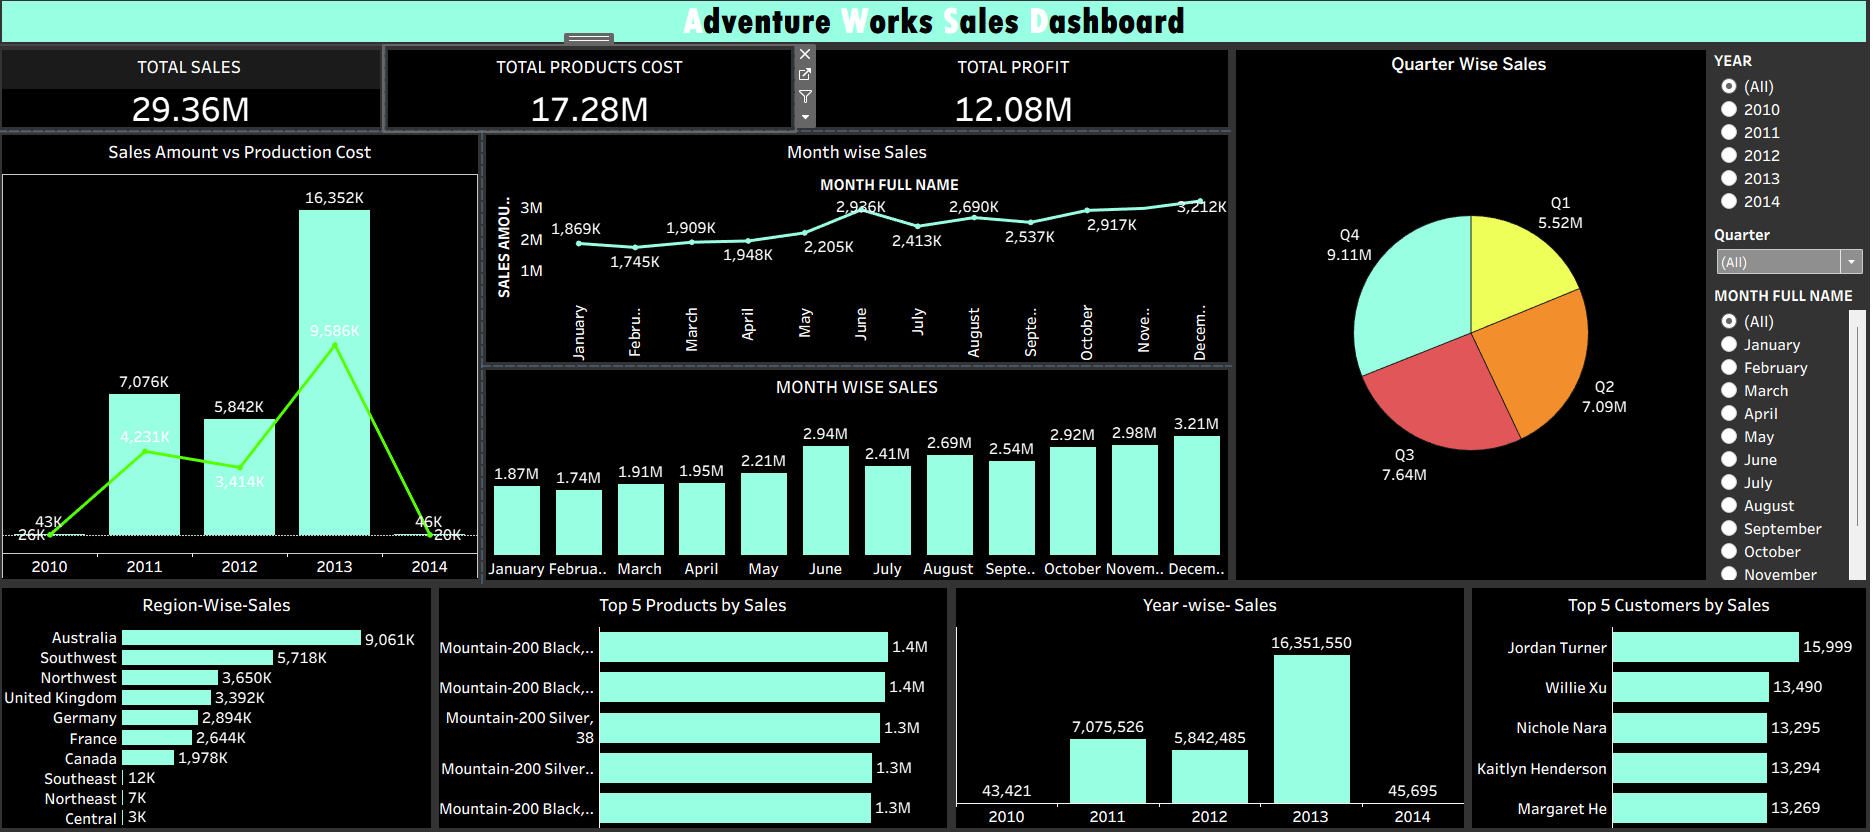

This screenshot's page, from the dashboard's own definition file:
{"tool":"tableau","page":{"name":"Dashboard ","canvas":[1000,1000],"units":"permille","ordinal":0},"visuals":[{"type":"title","box":[4.9,9.4,990.2,57.6]},{"type":"worksheet","title":"KPI 1","mark":"Automatic","box":[4.9,67,235.2,100.4]},{"type":"worksheet","title":"KPI 2","mark":"Automatic","box":[240.1,67,250.5,100.4]},{"type":"worksheet","title":"KPI 3","mark":"Automatic","box":[490.5,67,266.3,100.4]},{"type":"worksheet","title":"Q10","mark":"Pie","box":[756.9,67,140.8,631.8]},{"type":"filter","title":"Q7","param":"[federated.0q1ap6u0a11ruk155v6pi1p8dr1x].[none:Calculation_1329087622410241:ok]","box":[897.6,67,97.5,204.5]},{"type":"worksheet","title":"Q11","mark":"Automatic","rows":["Calculation_1329087632871436","Calculation_1329087633899533"],"cols":["Calculation_1329087622410241"],"box":[4.9,167.4,295.1,531.4]},{"type":"worksheet","title":"Q9","mark":"Line","rows":["Calculation_1329087632871436"],"cols":["Calculation_1329087622959107"],"box":[300,167.4,456.9,275.8]},{"type":"filter","title":"Q10","param":"[federated.0q1ap6u0a11ruk155v6pi1p8dr1x].[none:Calculation_1329087623495684:nk]","box":[897.6,271.4,97.5,71.7]},{"type":"filter","title":"Q9","param":"[federated.0q1ap6u0a11ruk155v6pi1p8dr1x].[none:Calculation_1329087622959107:nk]","box":[897.6,343.1,97.5,355.7]},{"type":"worksheet","title":"Q7","mark":"Automatic","rows":["Calculation_1329087632871436"],"cols":["Calculation_1329087622959107"],"box":[300,443.2,456.9,255.6]},{"type":"worksheet","title":"Q12 C ","mark":"Automatic","rows":["SalesTerritoryRegion"],"cols":["Calculation_1329087632871436"],"box":[4.9,698.8,231.2,291.8]},{"type":"worksheet","title":"Q12 A","mark":"Automatic","rows":["EnglishProductName"],"cols":["Calculation_1329087632871436"],"box":[236.1,698.8,273.2,291.8]},{"type":"worksheet","title":"Q8","mark":"Automatic","rows":["Calculation_1329087632871436"],"cols":["Calculation_1329087622410241"],"box":[509.3,698.8,273.2,291.8]},{"type":"worksheet","title":"Q12 B","mark":"Automatic","rows":["Calculation_1224359376412672"],"cols":["Calculation_1329087632871436"],"box":[782.5,698.8,212.6,291.8]}]}

Visuals, with their boxes on the dashboard's canvas, which has no fixed pixel size, in thousandths of its width and height (x1, y1, x2, y2). These are canvas units, not pixel positions in the 1873x832 screenshot, which may show the page scaled, cropped or inside an application window:
title: pyautogui.locateOnScreen(5, 9, 995, 67)
"KPI 1" worksheet: pyautogui.locateOnScreen(5, 67, 240, 167)
"KPI 2" worksheet: pyautogui.locateOnScreen(240, 67, 491, 167)
"KPI 3" worksheet: pyautogui.locateOnScreen(490, 67, 757, 167)
"Q10" worksheet (Pie marks): pyautogui.locateOnScreen(757, 67, 898, 699)
"Q7" filter: pyautogui.locateOnScreen(898, 67, 995, 272)
"Q11" worksheet: pyautogui.locateOnScreen(5, 167, 300, 699)
"Q9" worksheet (Line marks): pyautogui.locateOnScreen(300, 167, 757, 443)
"Q10" filter: pyautogui.locateOnScreen(898, 271, 995, 343)
"Q9" filter: pyautogui.locateOnScreen(898, 343, 995, 699)
"Q7" worksheet: pyautogui.locateOnScreen(300, 443, 757, 699)
"Q12 C " worksheet: pyautogui.locateOnScreen(5, 699, 236, 991)
"Q12 A" worksheet: pyautogui.locateOnScreen(236, 699, 509, 991)
"Q8" worksheet: pyautogui.locateOnScreen(509, 699, 782, 991)
"Q12 B" worksheet: pyautogui.locateOnScreen(782, 699, 995, 991)
